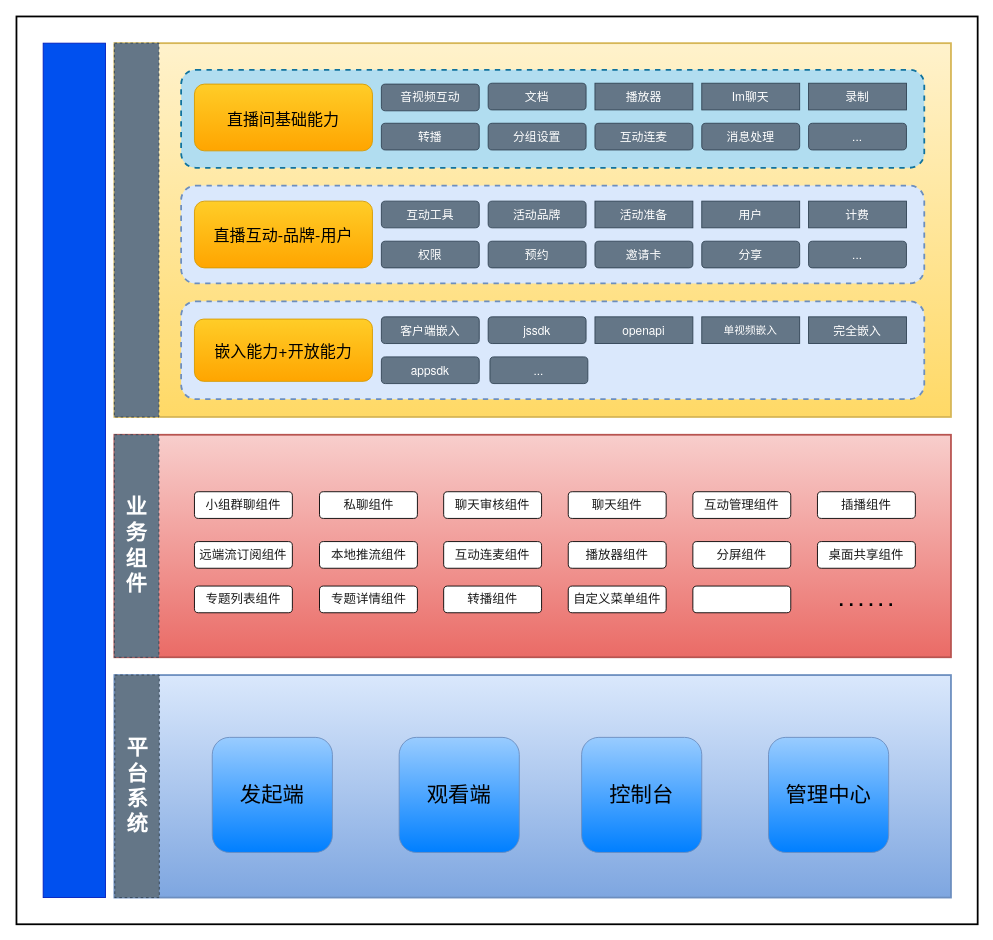
This 993x940 diagram has some shape labels left out. Each missing label, with the centre of its shape:
功 能 模 块: pixel 136 229
多语言组件: pixel 741 599
高 稳 定 可 复 用 架 构: pixel 73 470
